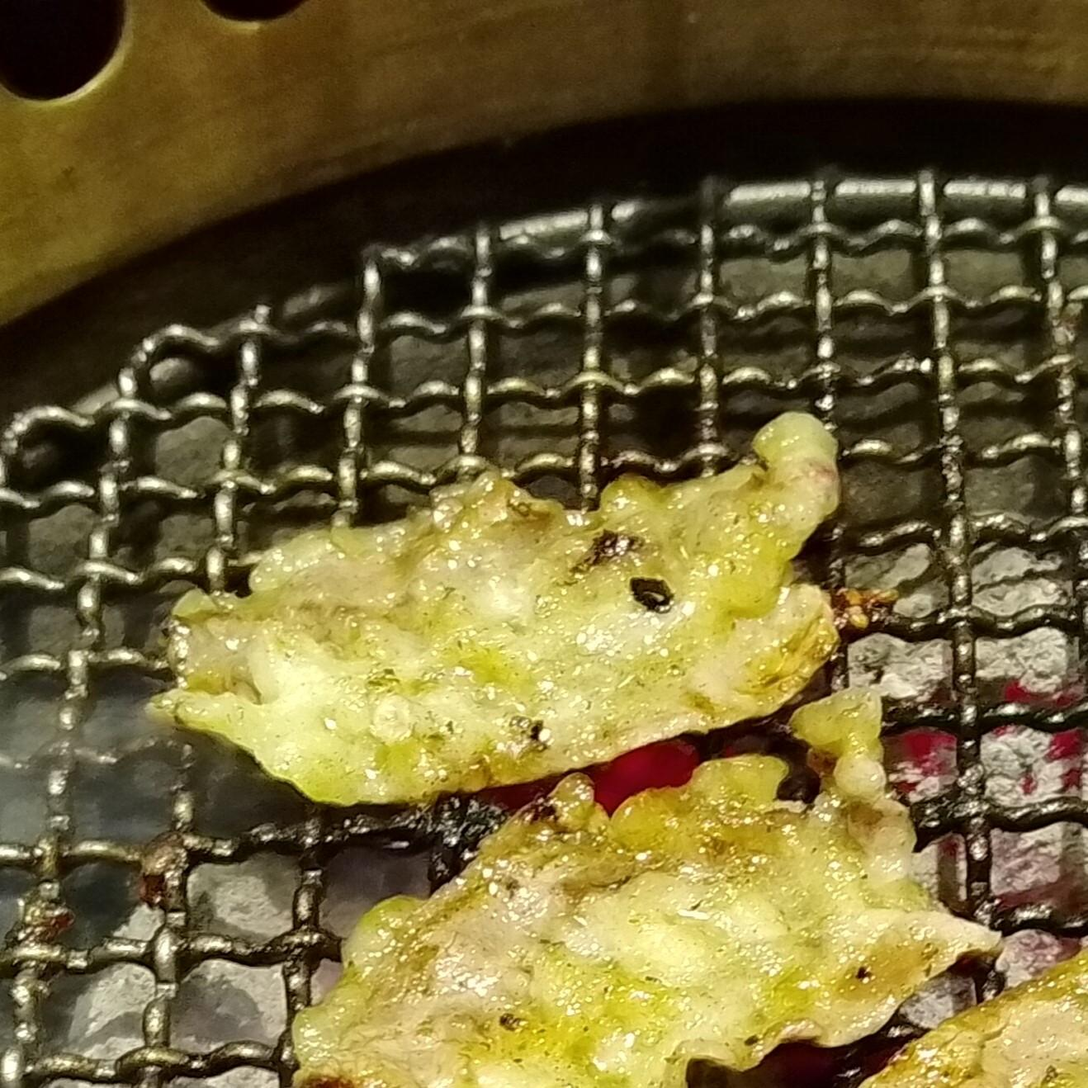Well-Cooked: (166, 412, 840, 810), (291, 769, 898, 1087), (862, 948, 1087, 1087)
